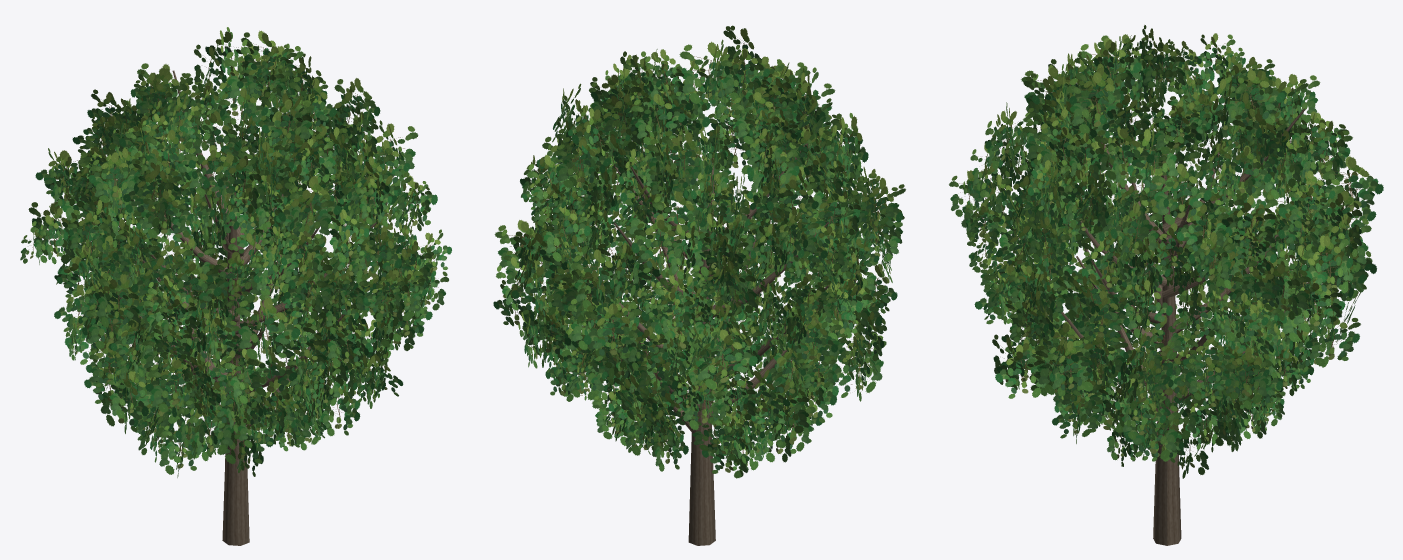
Rendered from alder_far.glb.
The picture shows the model from 3 angles, left to right: view 1: azimuth 30°, elevation 25°; view 2: azimuth 150°, elevation 25°; view 3: azimuth 270°, elevation 25°; orthographic projection. The views are drawn at different scales.
Visible parts, largest first — view 1: VIS_Alder_LeafCards, VIS_Alder_Bark; view 2: VIS_Alder_LeafCards, VIS_Alder_Bark; view 3: VIS_Alder_LeafCards, VIS_Alder_Bark.
Part boxes in pixels (left/top/right/bottom): VIS_Alder_LeafCards: left=20, top=27, right=451, bottom=477; VIS_Alder_Bark: left=118, top=70, right=376, bottom=545; VIS_Alder_LeafCards: left=493, top=25, right=905, bottom=478; VIS_Alder_Bark: left=603, top=132, right=844, bottom=545; VIS_Alder_LeafCards: left=949, top=25, right=1383, bottom=478; VIS_Alder_Bark: left=1056, top=108, right=1309, bottom=545.
Bounding box in the file's own units: 9.45 × 11.59 × 9.45.
Materials: 2 (2 with a texture image).
